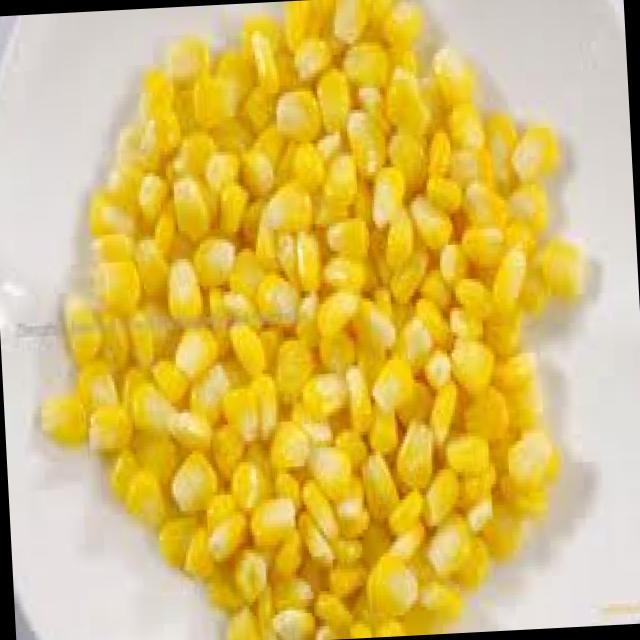Corn: (12, 0, 612, 640)
